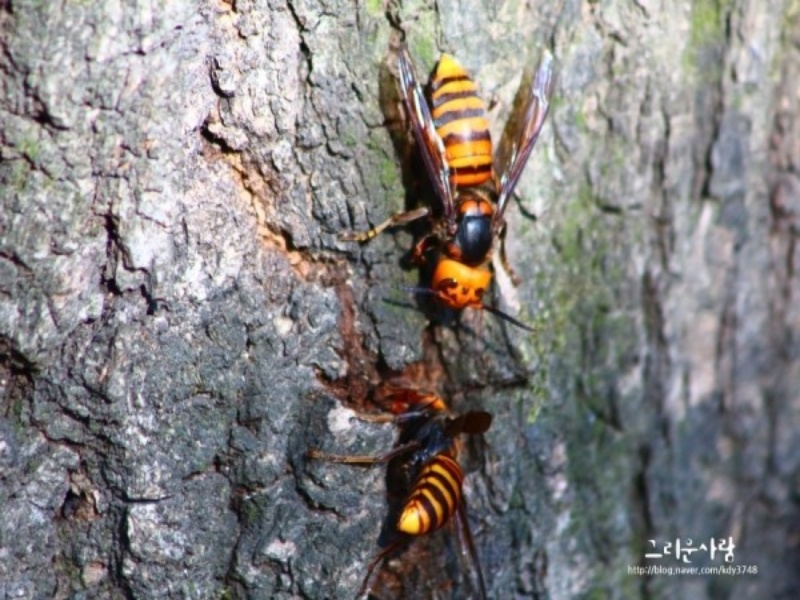asian_giant_hornet: (369, 32, 557, 336), (336, 372, 511, 584)
